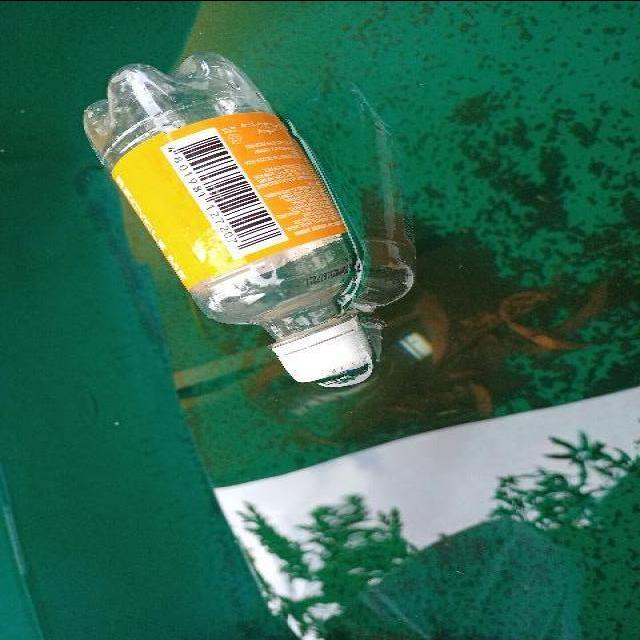Bottle: (78, 43, 388, 392)
